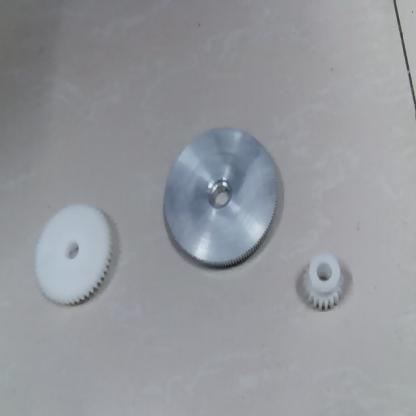FOD: (162, 124, 284, 276), (30, 201, 115, 314), (294, 250, 351, 316)
